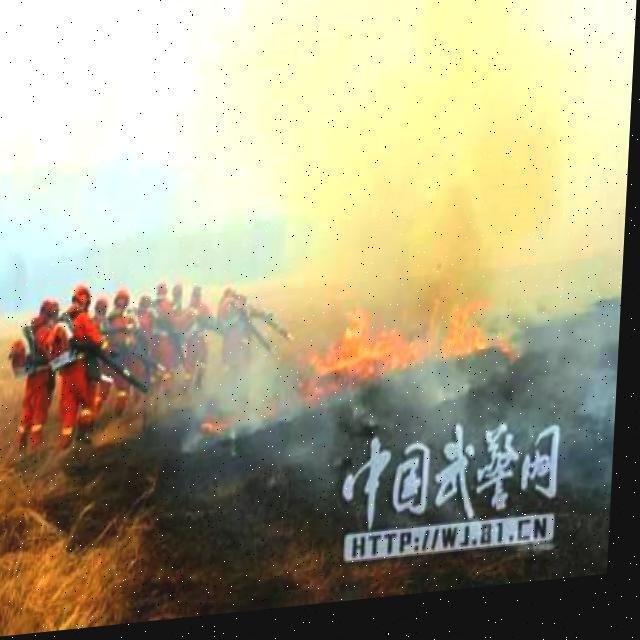Fire: (310, 294, 521, 406)
